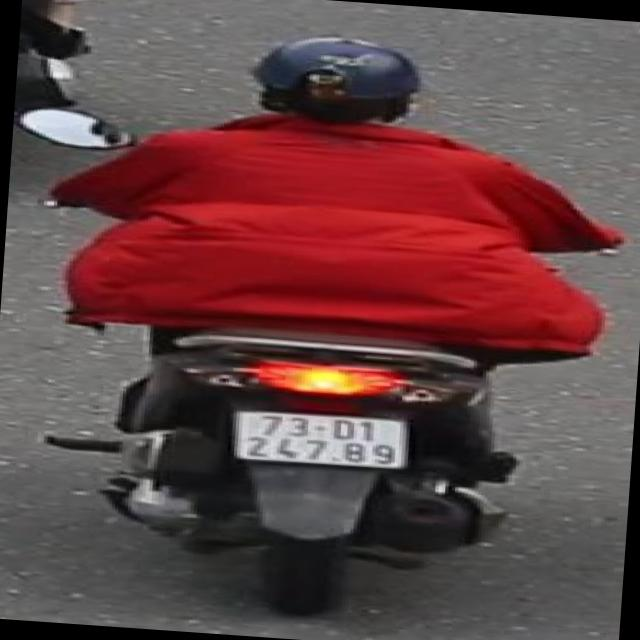LP: (223, 397, 421, 476)
helmet: (239, 27, 436, 146)
